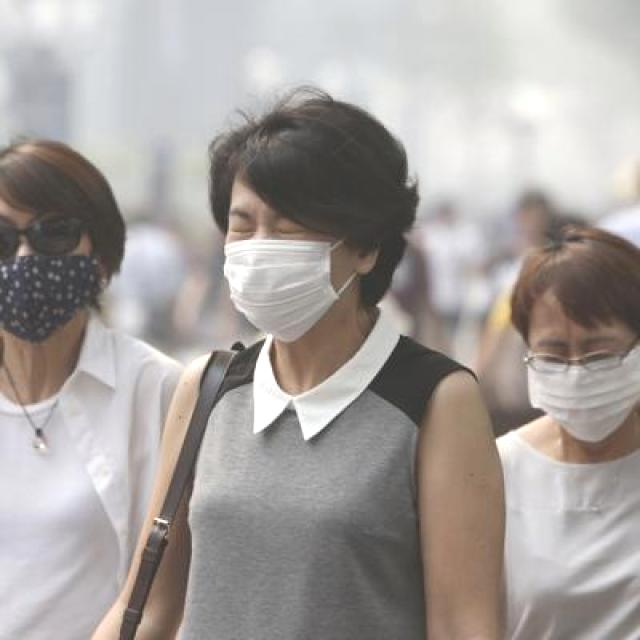face_mask: (221, 203, 357, 334), (528, 326, 638, 442), (0, 210, 93, 342)
glasses: (0, 209, 86, 276)
head_nohelmet: (202, 120, 408, 203), (515, 214, 640, 312), (0, 120, 125, 208)
person: (189, 147, 480, 640), (6, 131, 181, 640), (517, 230, 640, 640)
